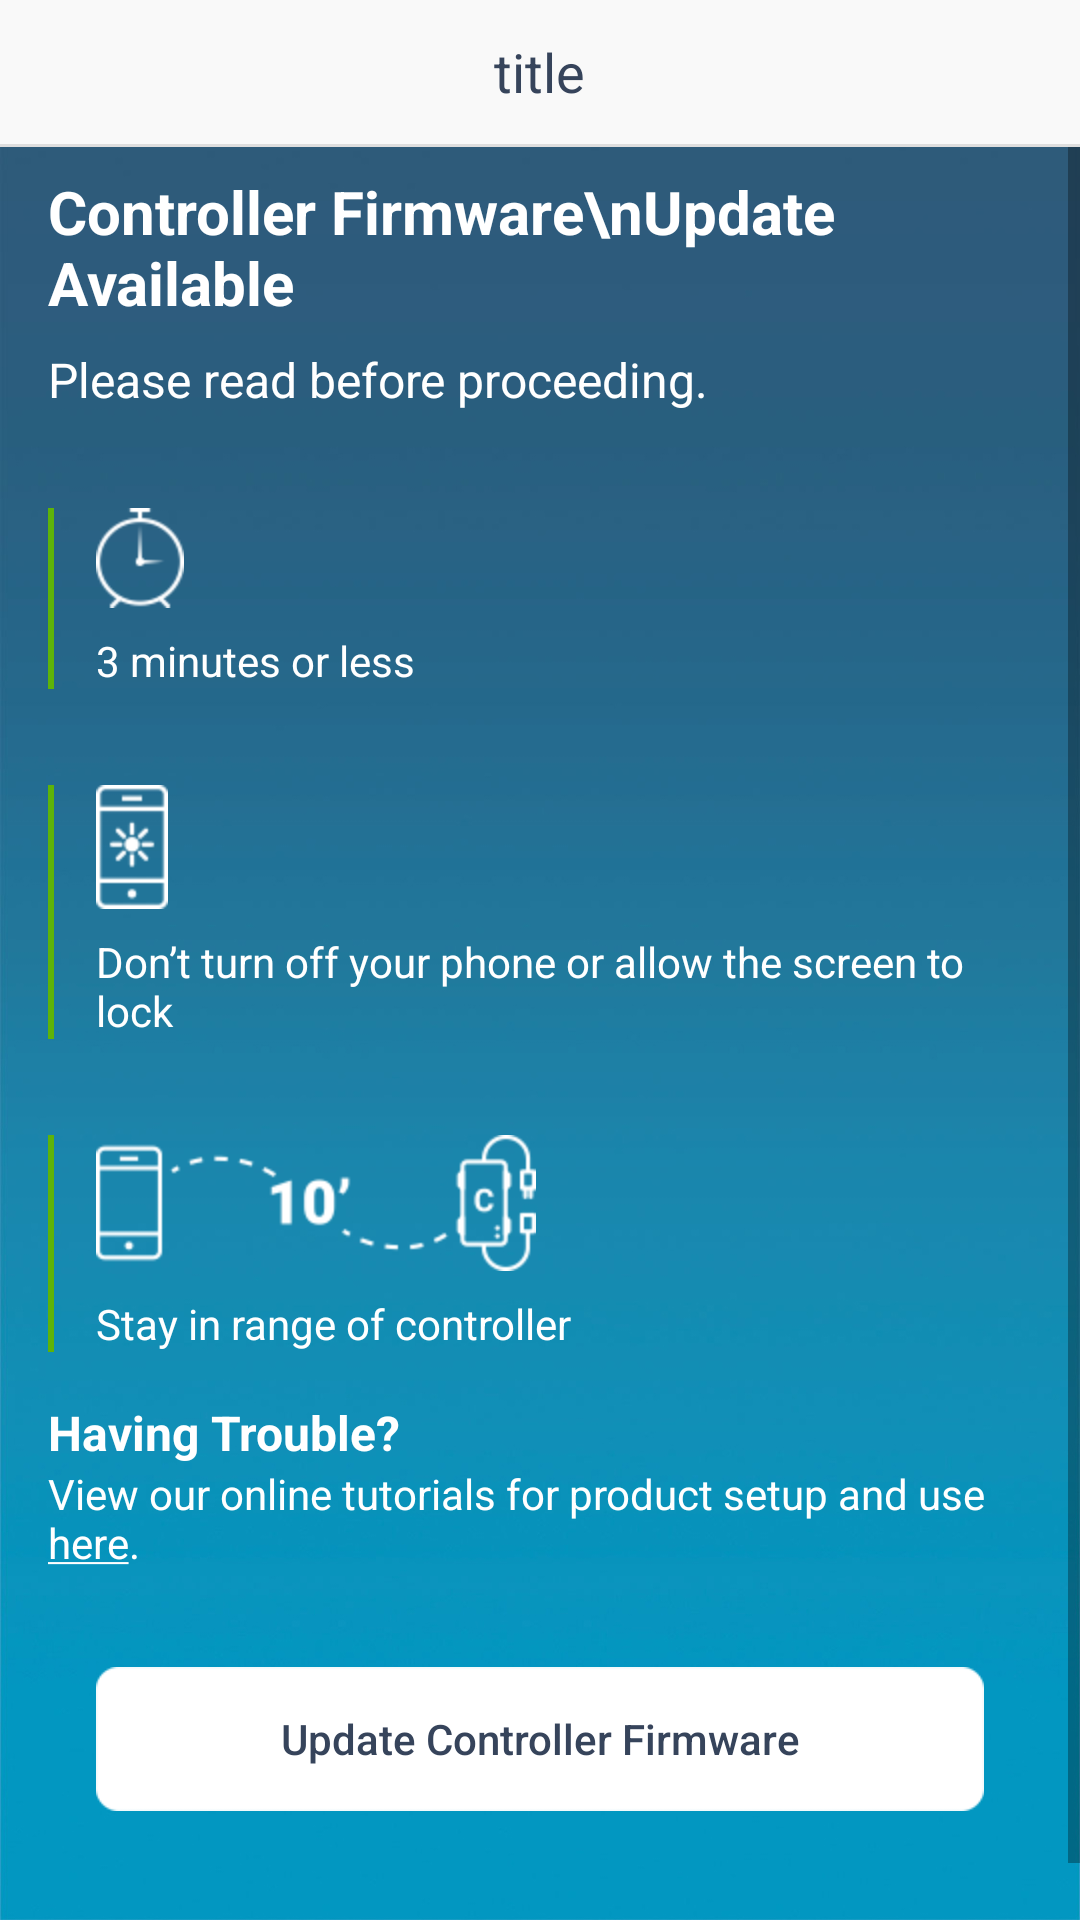

Icon bounding boxes for this 1080 x 1920 phone screenshot, format {"x1": x1, "y1": y1, "x2": x2, "y2": y2}:
clock: {"x1": 96, "y1": 508, "x2": 184, "y2": 608}
